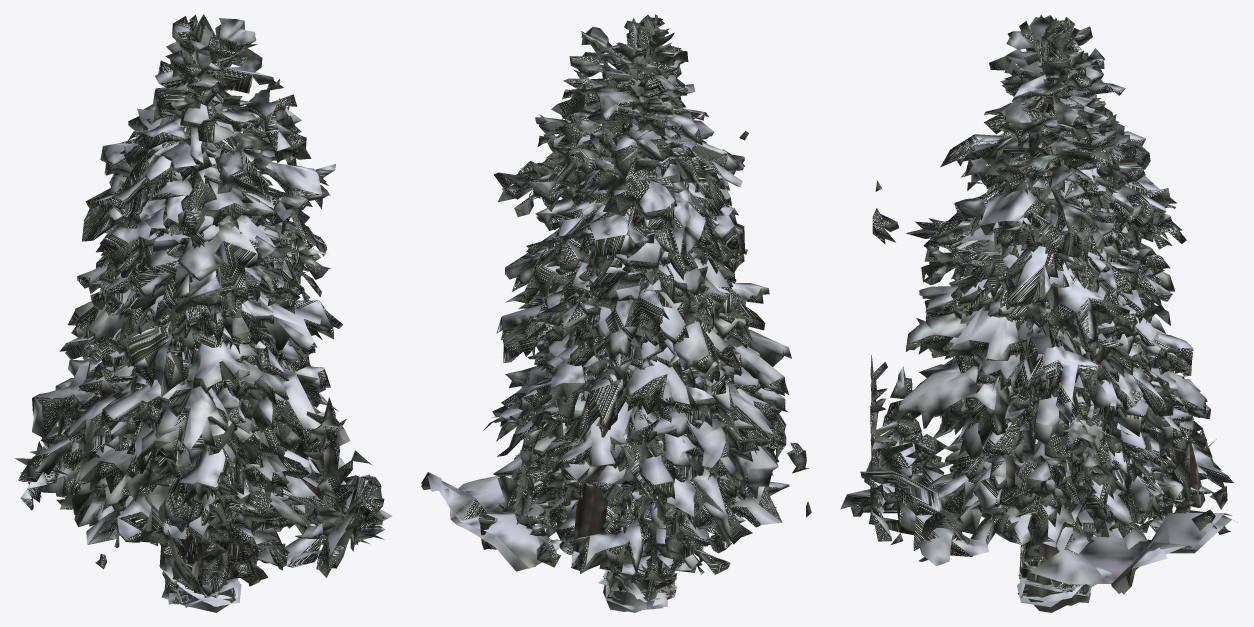
File: alpine-spruces.glb
3 renders of one model, left to right at view 1: azimuth 30°, elevation 25°; view 2: azimuth 150°, elevation 25°; view 3: azimuth 270°, elevation 25°, orthographic.
Parts seen in each view (by area): view 1: spruce7_lod0, spruce3_lod0, spruce6_lod0, spruce1_lod0, spruce5_lod0, spruce4_lod0, spruce2_lod0, spruce0_lod0; view 2: spruce1_lod0, spruce3_lod0, spruce5_lod0, spruce6_lod0, spruce7_lod0, spruce2_lod0, spruce4_lod0, spruce0_lod0; view 3: spruce3_lod0, spruce7_lod0, spruce4_lod0, spruce6_lod0, spruce1_lod0, spruce5_lod0, spruce2_lod0, spruce0_lod0.
Boxes of the visible parts, x1,y1,x2,y2 form: spruce7_lod0: (73,21,350,600); spruce3_lod0: (74,14,342,590); spruce6_lod0: (32,26,384,612); spruce1_lod0: (20,21,310,590); spruce5_lod0: (18,14,312,606); spruce4_lod0: (15,17,392,607); spruce2_lod0: (25,24,323,606); spruce0_lod0: (56,22,385,596); spruce1_lod0: (518,18,759,594); spruce3_lod0: (483,14,811,583); spruce5_lod0: (478,23,789,589); spruce6_lod0: (493,25,787,612); spruce7_lod0: (421,15,791,602); spruce2_lod0: (520,26,786,594); spruce4_lod0: (501,18,756,609); spruce0_lod0: (532,22,809,585); spruce3_lod0: (906,17,1193,591); spruce7_lod0: (891,15,1237,594); spruce4_lod0: (840,18,1227,596); spruce6_lod0: (869,30,1210,612); spruce1_lod0: (938,14,1205,588); spruce5_lod0: (954,17,1233,607); spruce2_lod0: (864,20,1206,592); spruce0_lod0: (918,17,1187,584).
Size of what is drawn, in the model's own units: 0.5941 by 1.02 by 0.6371.
1 material, 1 textured.
